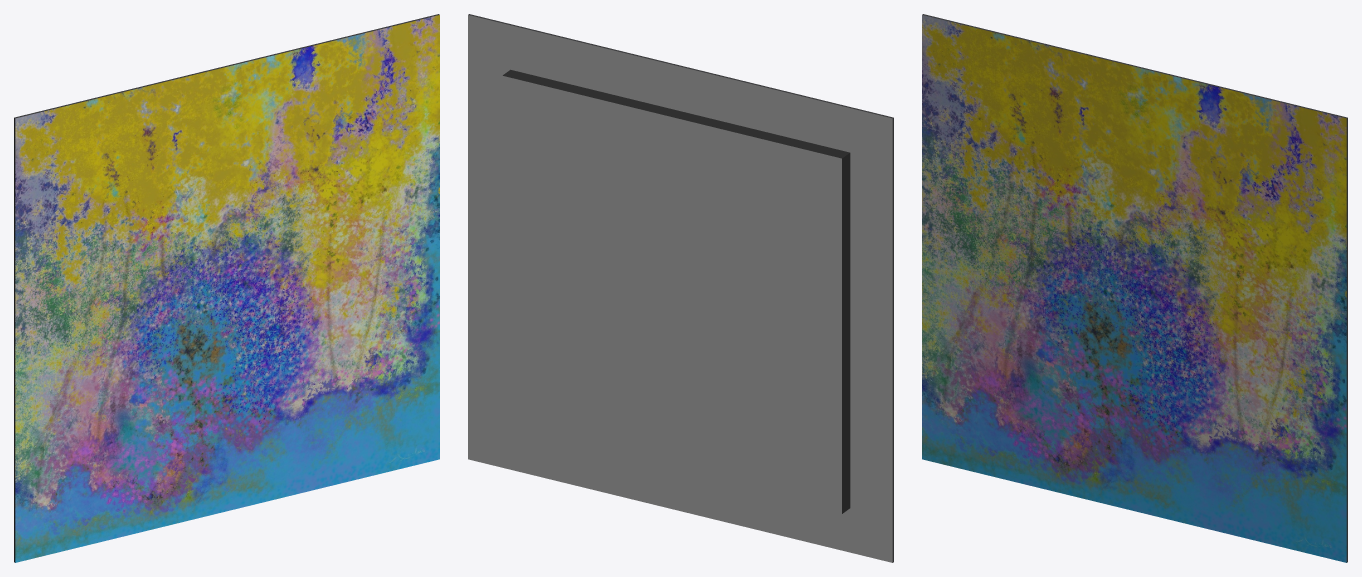
The model's file is va192_moyen_dibond.glb.
The picture shows the model from 3 angles, left to right: view 1: azimuth 30°, elevation 25°; view 2: azimuth 150°, elevation 25°; view 3: azimuth 330°, elevation 25°; orthographic projection.
Visible parts, largest first — view 1: va192_moyen_dibond; view 2: va192_moyen_dibond; view 3: va192_moyen_dibond.
Part boxes in pixels (<box>): va192_moyen_dibond: <box>14,14,439,562</box>; va192_moyen_dibond: <box>468,14,893,562</box>; va192_moyen_dibond: <box>922,14,1347,562</box>.
Bounding box in the file's own units: 0.6 × 0.6 × 0.023.
Materials: 4 (1 with a texture image).
